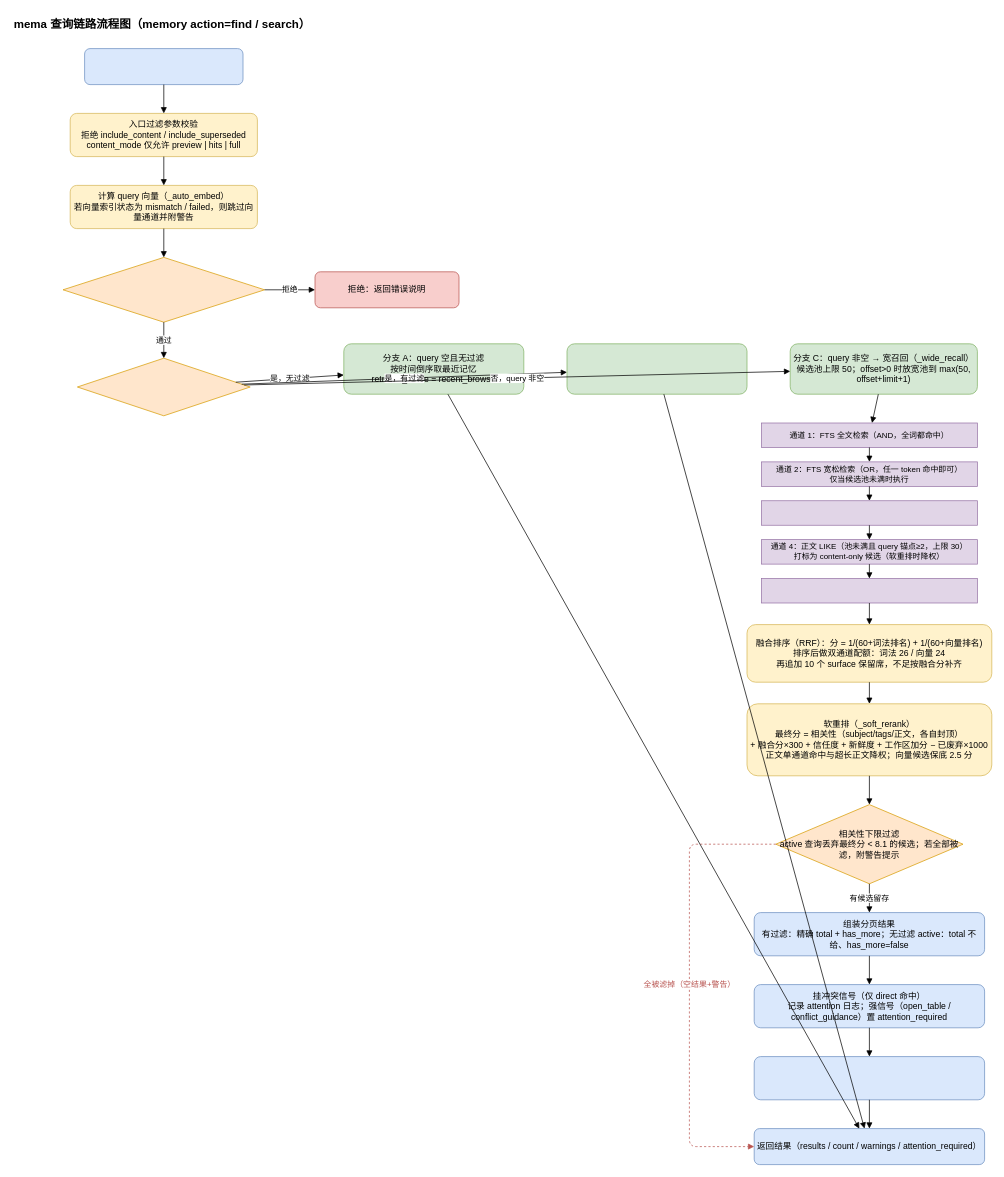
Image size: 1004x1177. Some labels were removed from this diagram. The centre of each missing label's shape, as x and y in pixels:
query 为空？: (163,386)
分支 B：query 空但有过滤 按 tags / 时间 / source_type 过滤召回 并用精确 count 给出 total: (656,368)
按 content_mode 裁剪正文 preview → 只给字数与大纲；hits → 给命中片段（覆盖≥50% 升为全文）；full → 全文: (869,1078)
收到调用 memory(action="find", query, …): (163,66)
解析工作区/隔离上下文 strict 隔离且无工作区 → 直接拒绝: (163,289)
通道 3：subject / tags 模糊匹配（每次都跑） 整句 + 分词 token，过滤停用锚点，打标为 surface 候选: (869,512)
通道 5：证据向量近邻（k=池上限×8） 按记忆聚合：最佳单元分 + 0.08×支撑单元数: (869,590)
